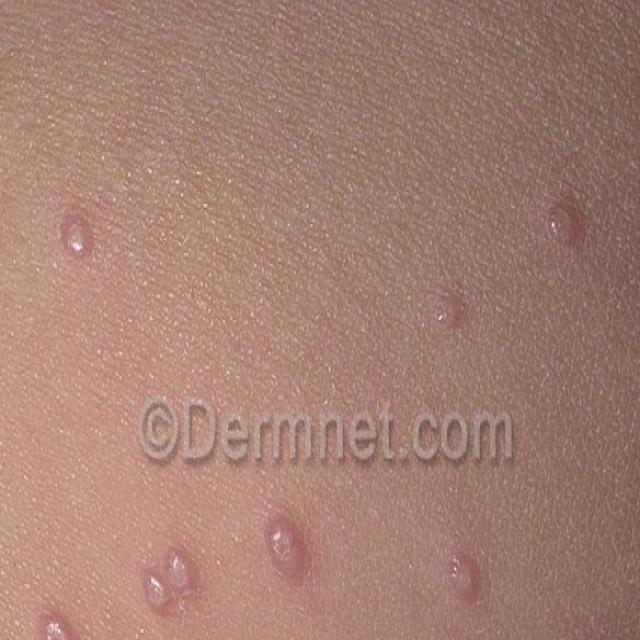Viral Infections: (134, 495, 205, 640), (529, 159, 603, 276), (243, 497, 321, 602), (44, 566, 135, 640), (443, 531, 499, 625), (423, 288, 479, 353), (54, 208, 105, 275)
